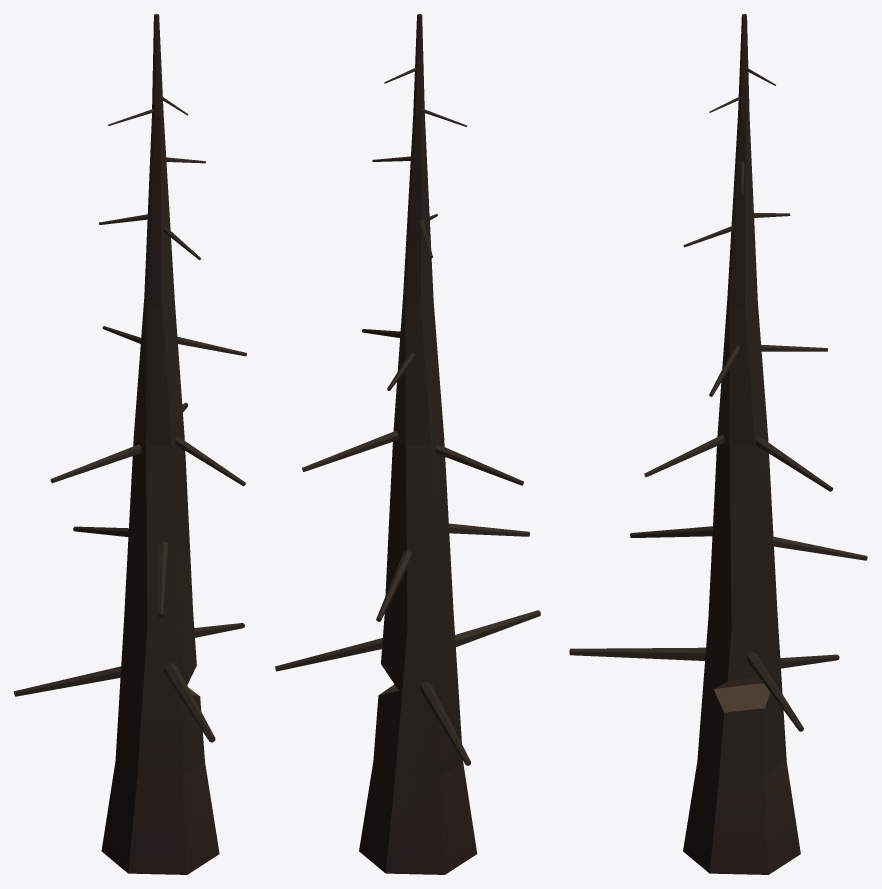
Rendered from tutorial_tree_special.glb.
3 views of the same model, side by side, from view 1: azimuth 30°, elevation 25°; view 2: azimuth 150°, elevation 25°; view 3: azimuth 270°, elevation 25° (orthographic).
Visible parts, largest first — view 1: tree_tutorial_special; view 2: tree_tutorial_special; view 3: tree_tutorial_special.
Part boxes in pixels (<box>): tree_tutorial_special: <box>14,14,246,874</box>; tree_tutorial_special: <box>275,14,540,874</box>; tree_tutorial_special: <box>569,14,867,874</box>.
Size of the model in its own units: 1.45 by 5.27 by 1.7.
